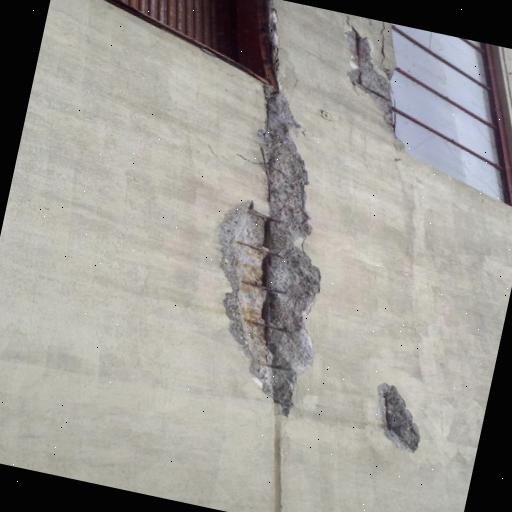spalling: (216, 84, 324, 410), (343, 22, 390, 123), (375, 380, 420, 453)
